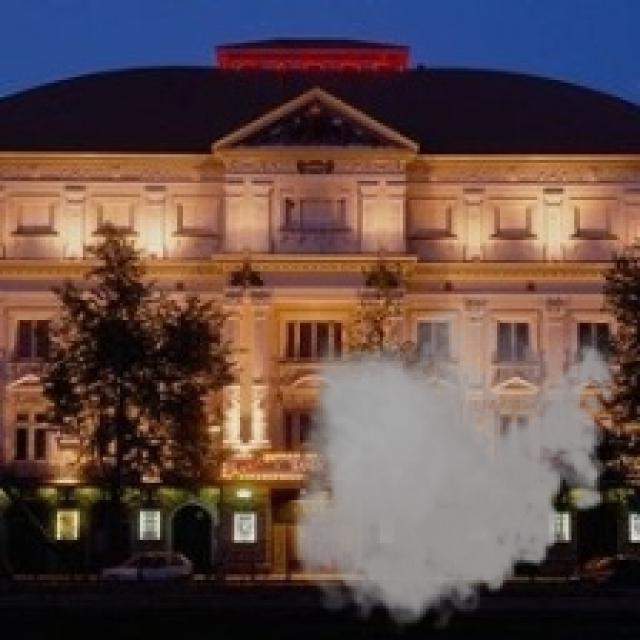smoke: (280, 289, 626, 637)
